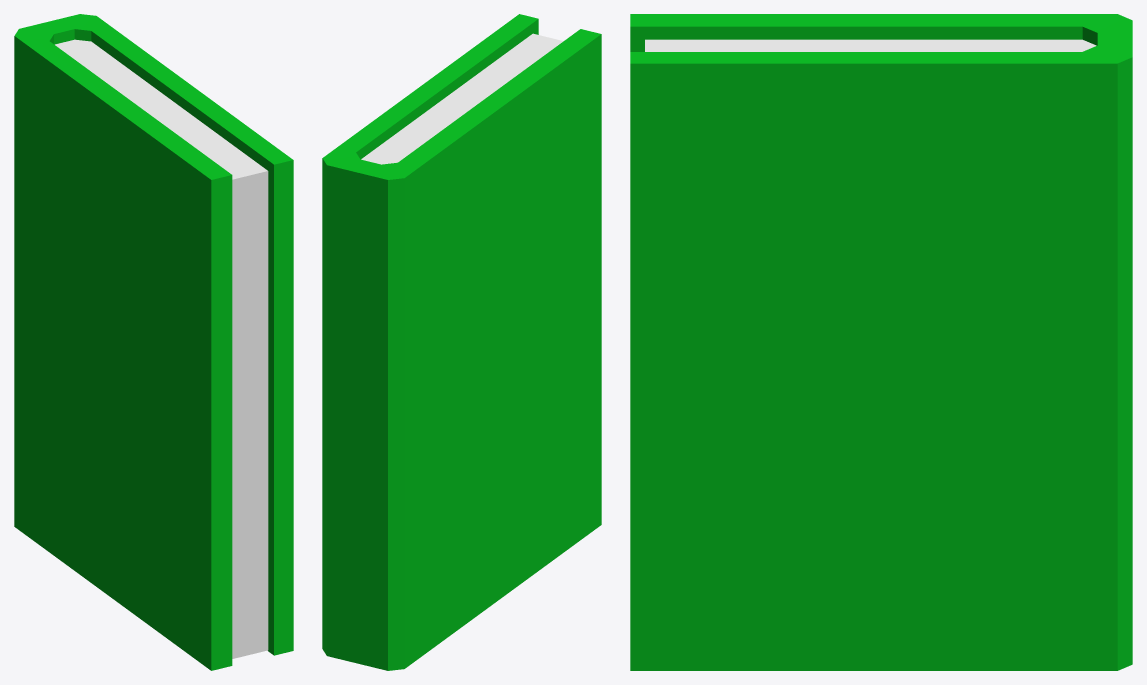
File: Libro06.fbx
3 renders of one model, left to right at view 1: azimuth 30°, elevation 25°; view 2: azimuth 150°, elevation 25°; view 3: azimuth 270°, elevation 25°, orthographic. The views are drawn at different scales.
Visible parts, largest first — view 1: Libro06; view 2: Libro06; view 3: Libro06.
Part boxes in pixels (x1,y1,x2,y2): Libro06: (14,14,293,670); Libro06: (322,14,601,670); Libro06: (630,14,1132,670).
Bounding box in the file's own units: 5.58 × 31.89 × 23.89.
